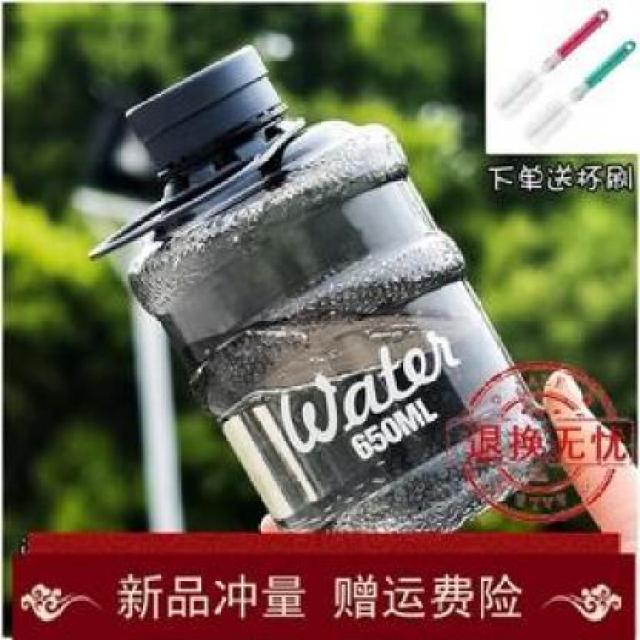coolerbottle: (122, 37, 552, 531)
